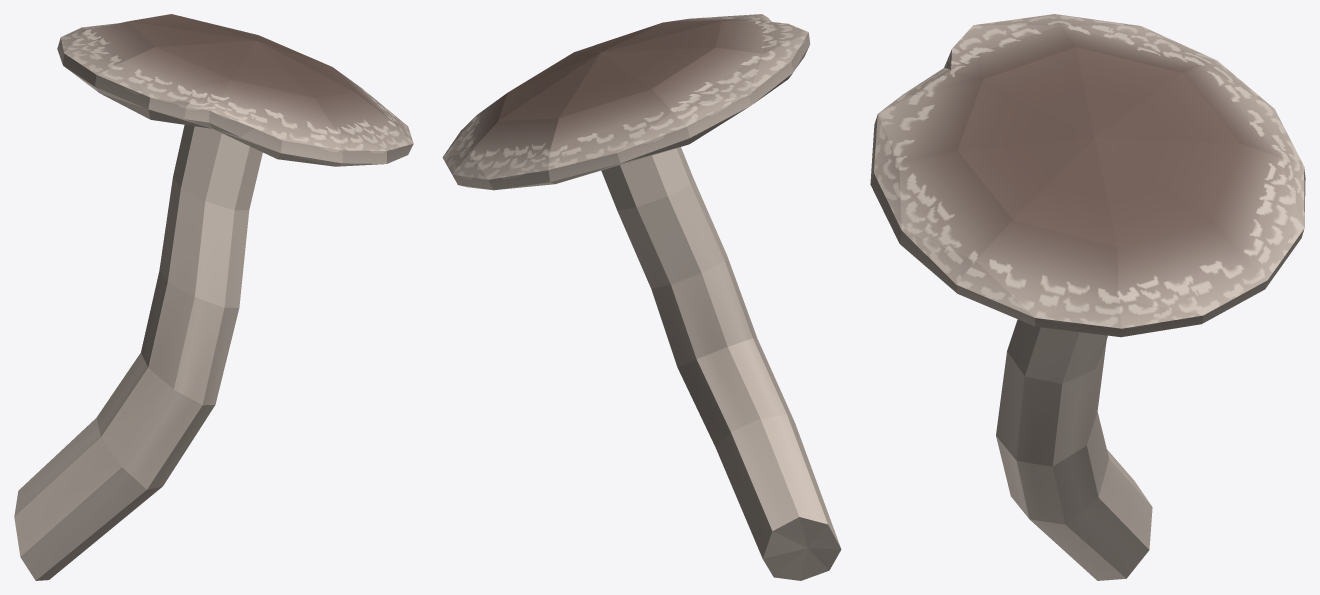
The model's file is shiitakeSingle2.fbx.
The picture shows the model from 3 angles, left to right: view 1: azimuth 30°, elevation 25°; view 2: azimuth 150°, elevation 25°; view 3: azimuth 270°, elevation 25°; orthographic projection. The views are drawn at different scales.
Visible parts, largest first — view 1: shiitakeSingle2; view 2: shiitakeSingle2; view 3: shiitakeSingle2.
Part boxes in pixels (x1,y1,x2,y2): shiitakeSingle2: [14, 14, 413, 580]; shiitakeSingle2: [442, 14, 841, 580]; shiitakeSingle2: [870, 14, 1305, 580].
Size of the model in its own units: 19.3 by 25.51 by 17.12.
